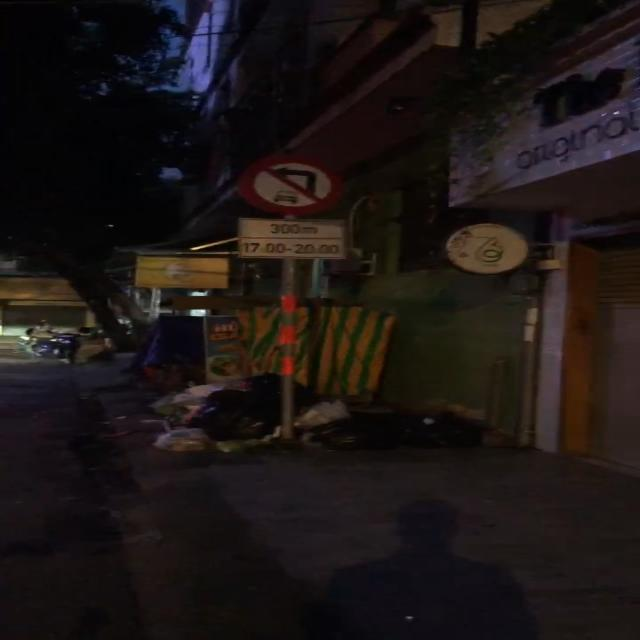Bien bao cam xe o to re trai: (235, 152, 353, 218)
